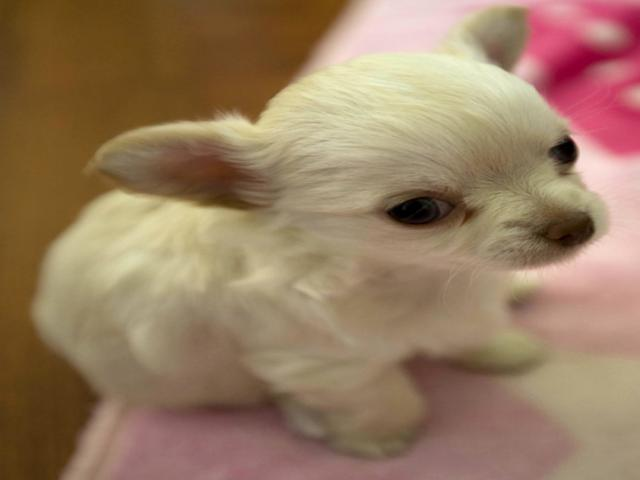Dog: (36, 2, 617, 461)
